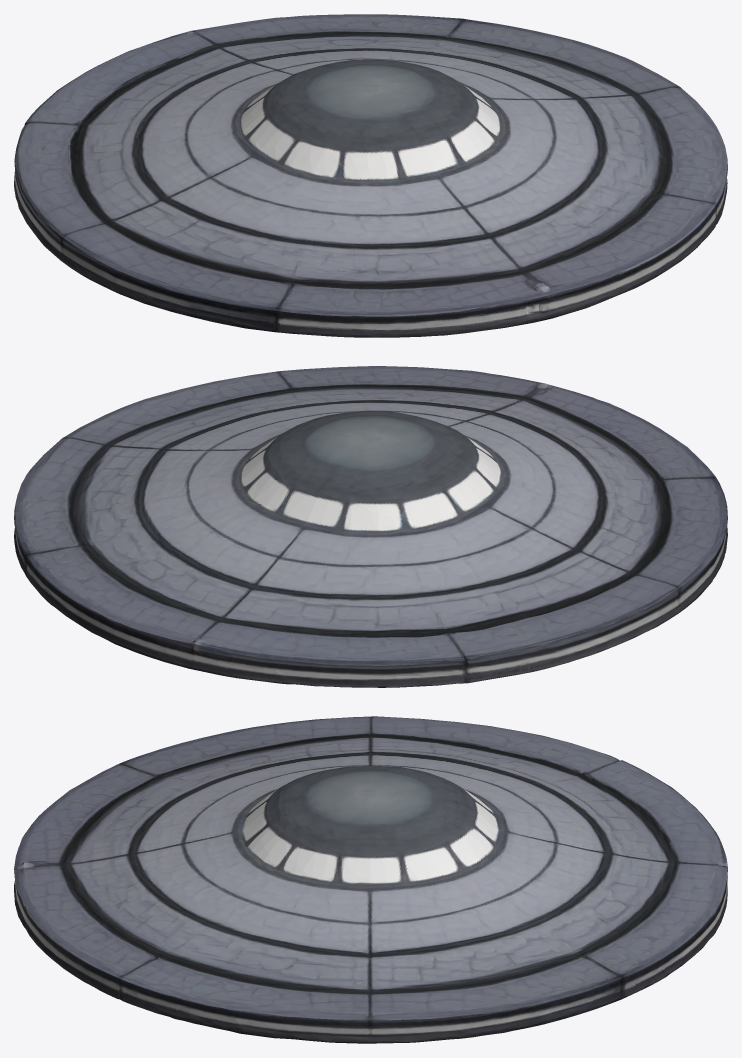
File: ufo white.glb
The picture shows the model from 3 angles, top to bottom: view 1: azimuth 30°, elevation 25°; view 2: azimuth 150°, elevation 25°; view 3: azimuth 270°, elevation 25°; orthographic projection.
Visible parts, largest first — view 1: world; view 2: world; view 3: world.
Boxes of the visible parts, <box> form: world: <box>14,14,727,337</box>; world: <box>14,366,727,687</box>; world: <box>14,716,727,1043</box>.
Bounding box in the file's own units: 1 × 0.2567 × 1.
Materials: 1 (1 with a texture image).
